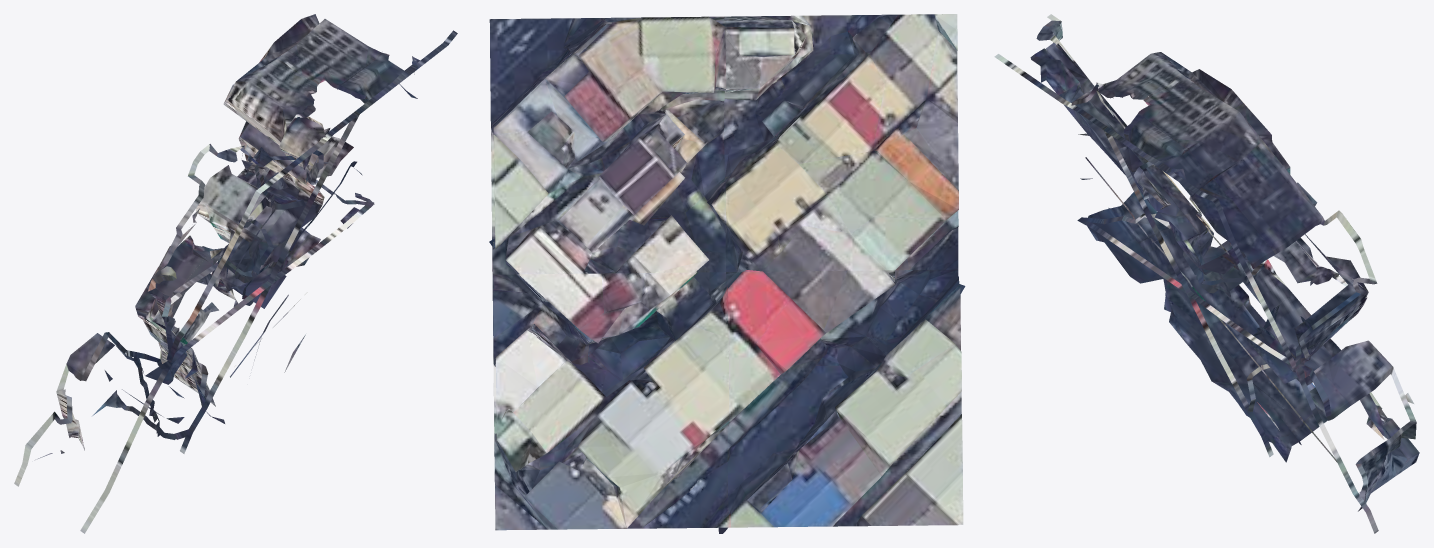
3 views of the same model, side by side, from view 1: azimuth 30°, elevation 25°; view 2: azimuth 150°, elevation 25°; view 3: azimuth 270°, elevation 25° (orthographic). The views are drawn at different scales.
Size of the model in its own units: 82.67 by 77.32 by 71.5.
1 material, 1 textured.
